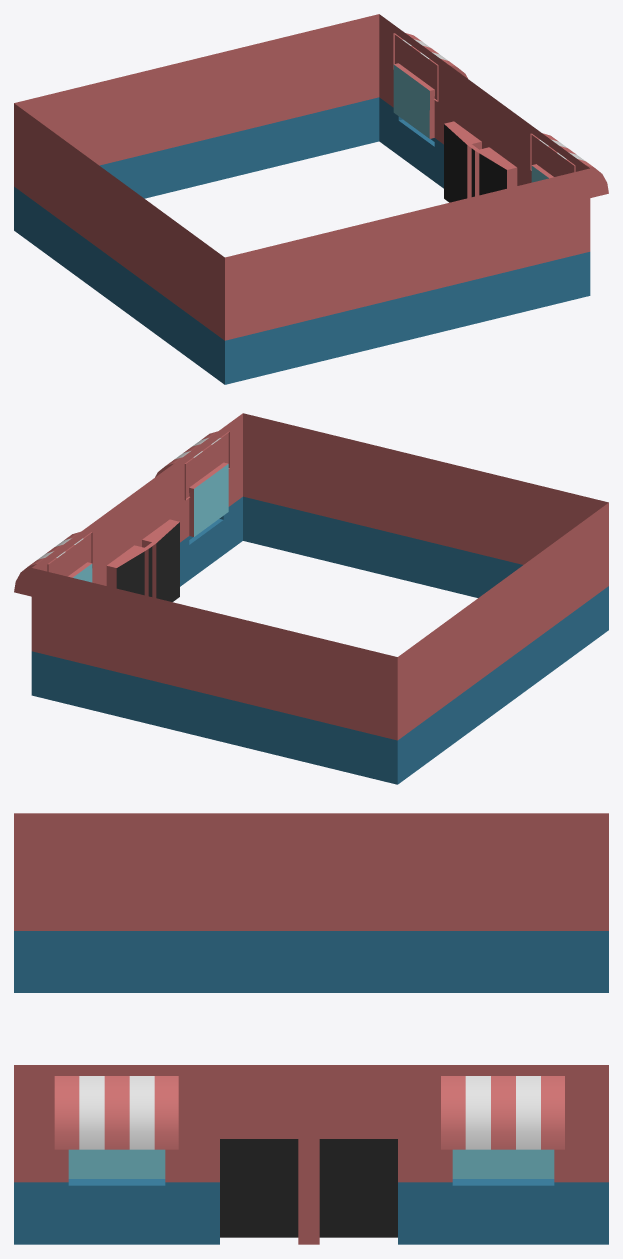
The model's file is SkyScraper_Bottom_03_red.fbx.
3 views of the same model, one above another, from view 1: azimuth 30°, elevation 25°; view 2: azimuth 150°, elevation 25°; view 3: azimuth 270°, elevation 25° (orthographic). The views are drawn at different scales.
Parts seen in each view (by area): view 1: SkyScraper1_Bottom_08; view 2: SkyScraper1_Bottom_08; view 3: SkyScraper1_Bottom_08.
Boxes of the visible parts, box(x1,y1,x2,y2) form: SkyScraper1_Bottom_08: box(14, 14, 608, 384); SkyScraper1_Bottom_08: box(14, 413, 608, 784); SkyScraper1_Bottom_08: box(14, 813, 608, 1244).
Bounding box in the file's own units: 105 × 32 × 96.
